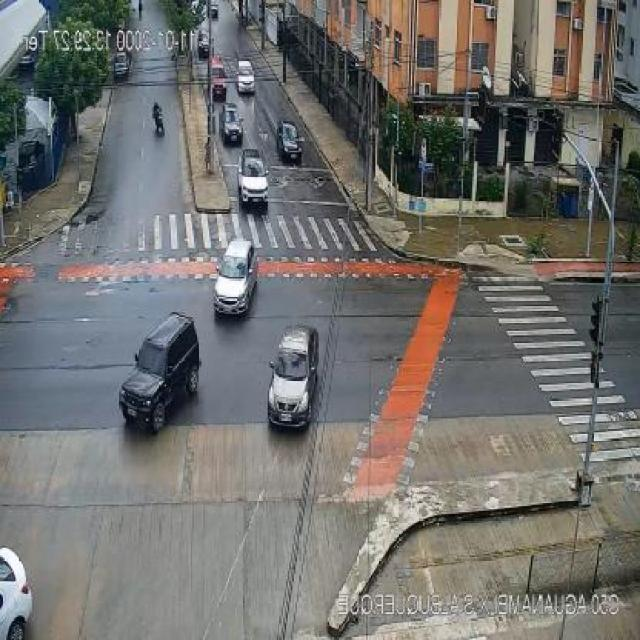Car: (118, 313, 200, 432), (265, 326, 319, 432), (211, 239, 257, 316), (0, 547, 32, 639), (237, 148, 270, 208), (15, 139, 46, 185), (219, 102, 244, 147), (276, 120, 302, 161), (236, 61, 255, 94), (113, 52, 131, 79), (197, 30, 214, 56), (208, 0, 220, 18)
Cycle: (153, 108, 165, 134)
Van: (208, 56, 228, 98)
